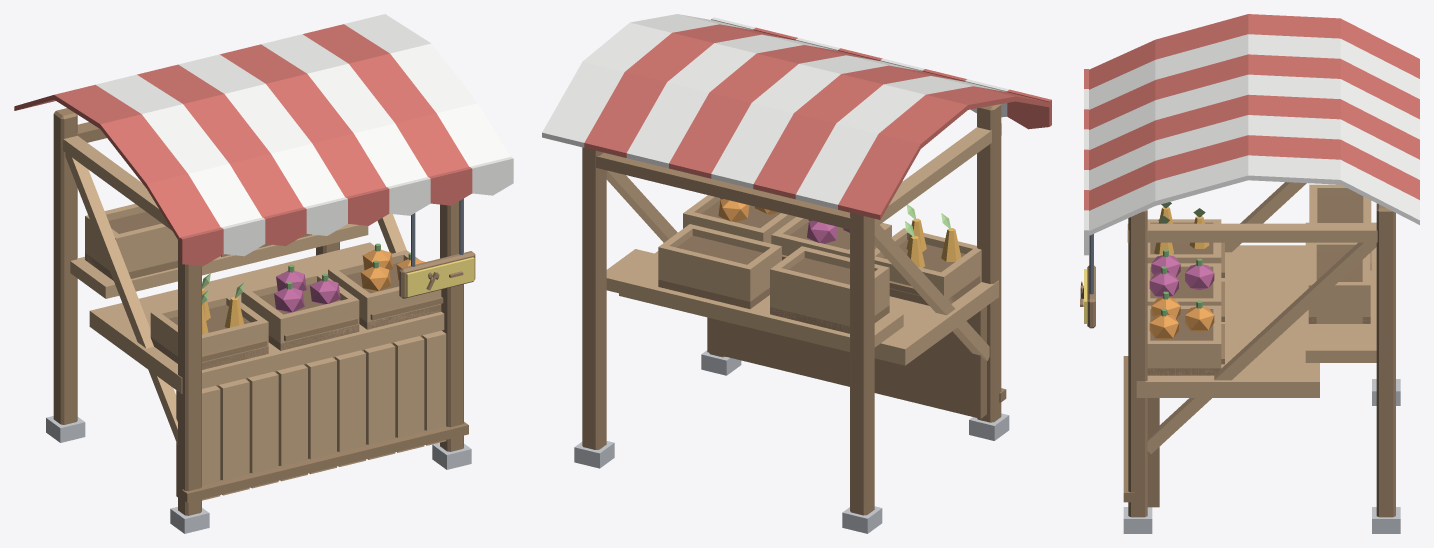
The model's file is prop_market.glb.
The picture shows the model from 3 angles, left to right: view 1: azimuth 30°, elevation 25°; view 2: azimuth 150°, elevation 25°; view 3: azimuth 270°, elevation 25°; orthographic projection. The views are drawn at different scales.
Parts seen in each view (by area): view 1: prop_market; view 2: prop_market; view 3: prop_market.
Part boxes in pixels (left/top/right/bottom): prop_market: left=14, top=14, right=513, bottom=533; prop_market: left=542, top=14, right=1051, bottom=533; prop_market: left=1080, top=14, right=1419, bottom=533.
Bounding box in the file's own units: 0.864 × 0.921 × 0.768.
